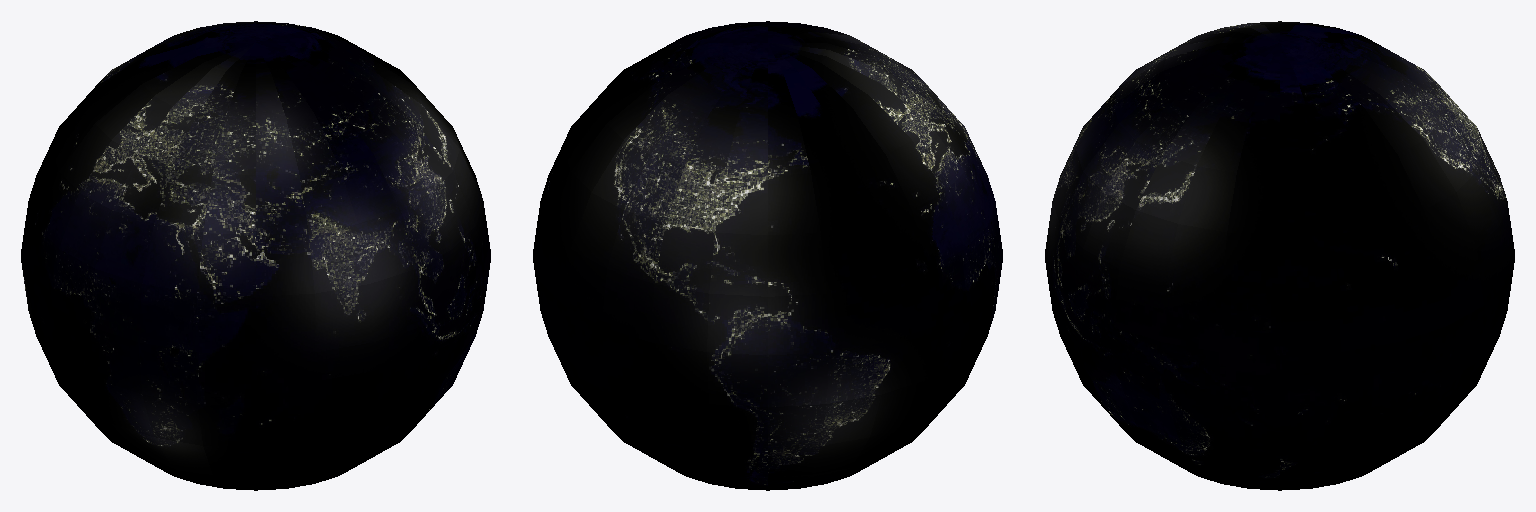
The picture shows the model from 3 angles: view 1: azimuth 30°, elevation 25°; view 2: azimuth 150°, elevation 25°; view 3: azimuth 270°, elevation 25°; orthographic projection.
Parts seen in each view (by area): view 1: Mesh1 ntitled1 Model; view 2: Mesh1 ntitled1 Model; view 3: Mesh1 ntitled1 Model.
Boxes of the visible parts, box(x1,y1,x2,y2) form: Mesh1 ntitled1 Model: box(21, 21, 490, 490); Mesh1 ntitled1 Model: box(533, 21, 1002, 490); Mesh1 ntitled1 Model: box(1045, 21, 1514, 490).
Bounding box in the file's own units: 3.2 × 3.2 × 3.2.
1 materials, 1 textured.